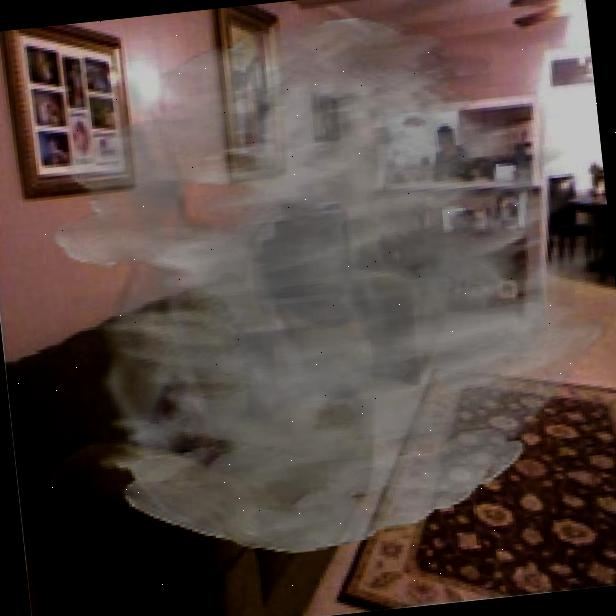smoke: (32, 0, 616, 574)
